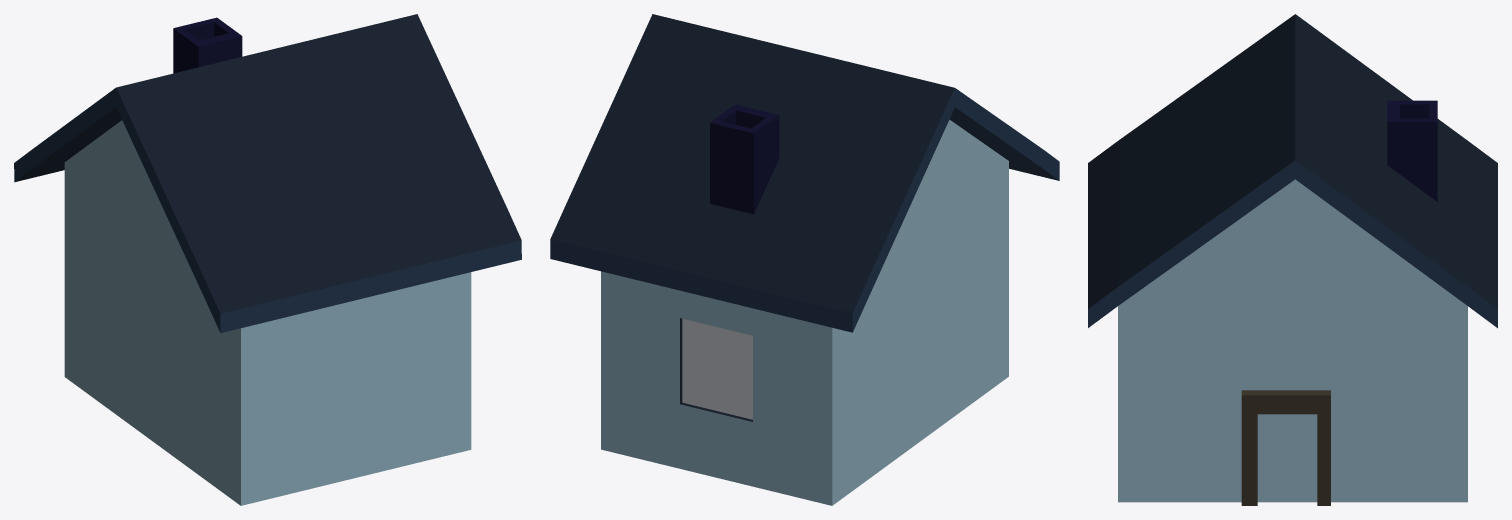
File: house-v1.obj
3 views of the same model, side by side, from view 1: azimuth 30°, elevation 25°; view 2: azimuth 150°, elevation 25°; view 3: azimuth 270°, elevation 25° (orthographic).
Visible parts, largest first — view 1: Cube, chimney; view 2: Cube, chimney; view 3: Cube, door, chimney.
Part boxes in pixels (box(x1,y1,x2,y2)): Cube: box(14, 14, 521, 505); chimney: box(173, 17, 242, 73); Cube: box(550, 14, 1059, 505); chimney: box(710, 104, 779, 214); Cube: box(1088, 14, 1497, 502); door: box(1241, 390, 1330, 505); chimney: box(1387, 100, 1437, 201).
Size of the model in its own units: 4.62 by 5.3 by 5.48.
